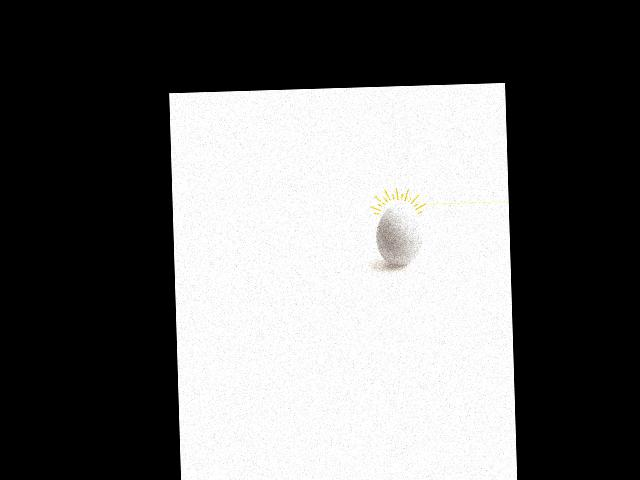egg: (375, 204, 423, 265)
